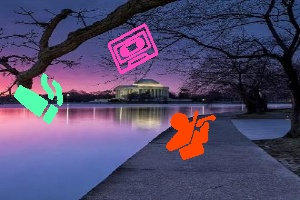拉琴: (167, 112, 216, 158)
磁带: (108, 24, 160, 71)
香烟: (15, 73, 66, 126)
